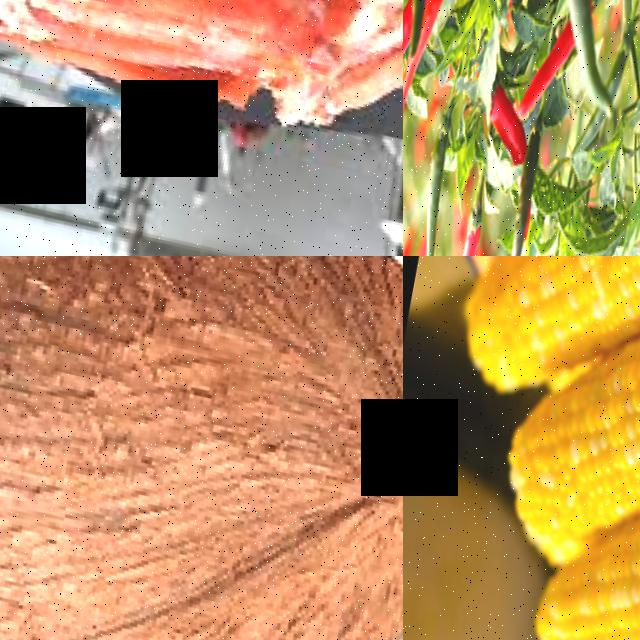chilli: (405, 99, 466, 256), (491, 109, 550, 256), (427, 187, 489, 256)
coconut: (0, 256, 403, 640)
corn: (498, 335, 640, 564), (457, 256, 637, 412), (527, 504, 640, 640)
crab: (0, 0, 403, 163)
